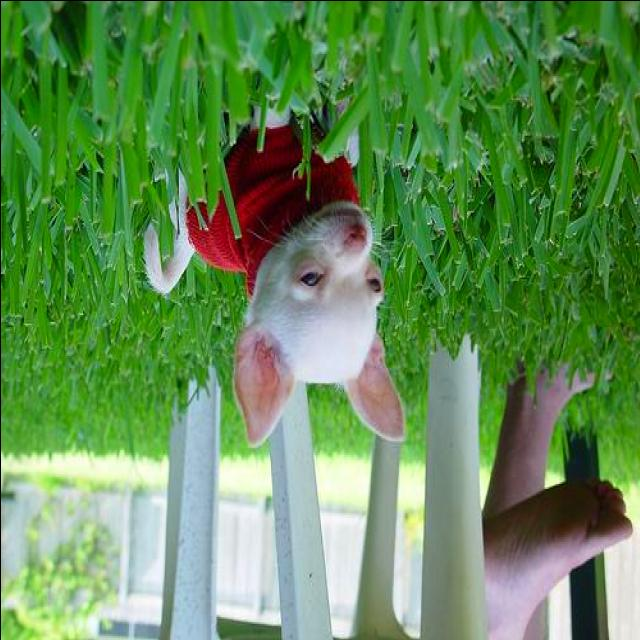chihuahua: (144, 25, 410, 448)
